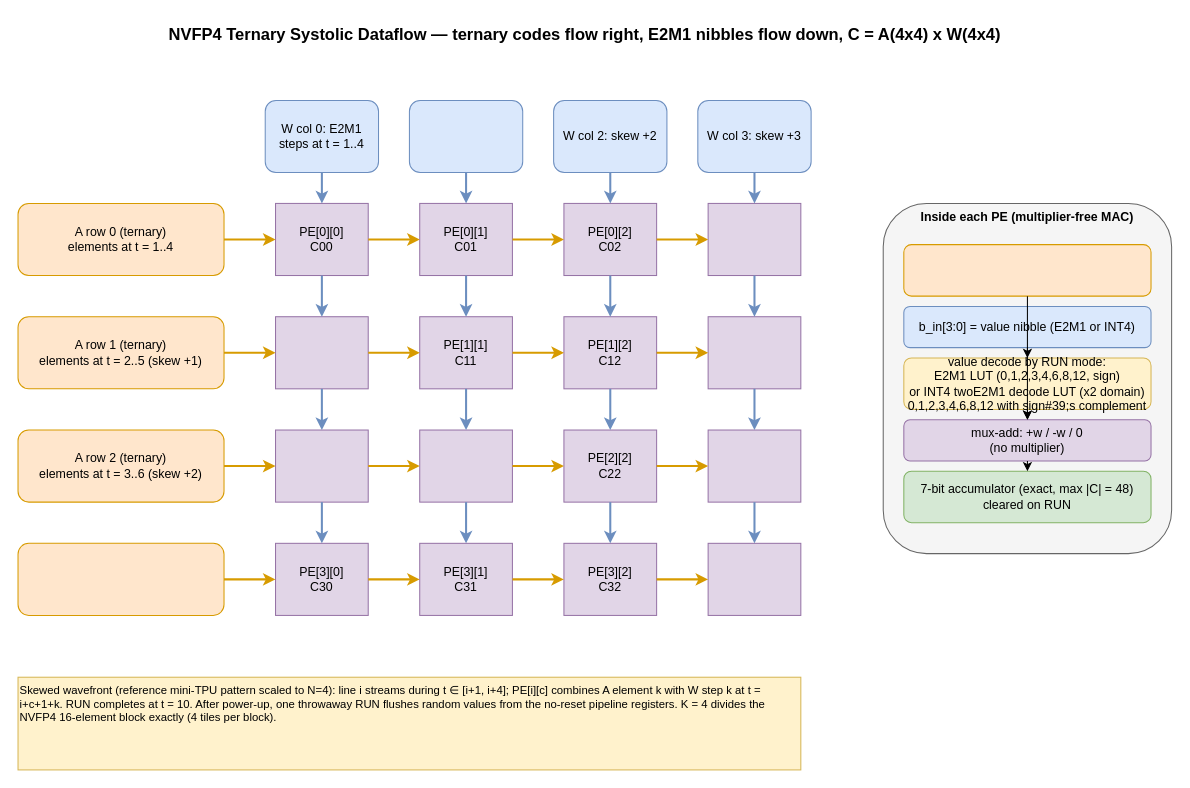
The diagram is 1190 pixels wide and 788 high, and some of its shapes have lost their labels. The centre of each missing label's shape, as x and y in pixels:
"A row 3 (ternary) elements at t = 4..7 (skew +3)" belongs at (120,578).
"a_in[1:0] = ternary code 00=0, 01=+1, 10=-1" belongs at (1027,270).
"PE[0][3] C03" belongs at (754,239).
"PE[1][0] C10" belongs at (321,352).
"PE[1][3] C13" belongs at (754,352).
"PE[2][0] C20" belongs at (321,465).
"PE[2][1] C21" belongs at (465,465).
"PE[2][3] C23" belongs at (754,465).
"PE[3][3] C33" belongs at (754,578).
"W col 1: skew +1" belongs at (465,136).
